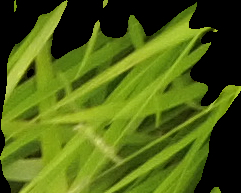grass: (1, 1, 240, 191)
